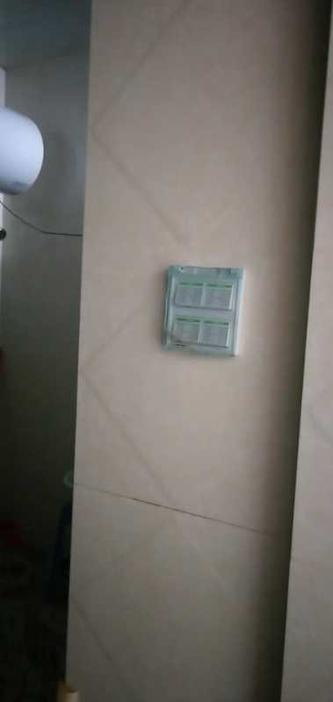switch: (166, 317, 204, 348), (207, 317, 236, 356), (208, 281, 230, 309), (172, 279, 197, 302)
